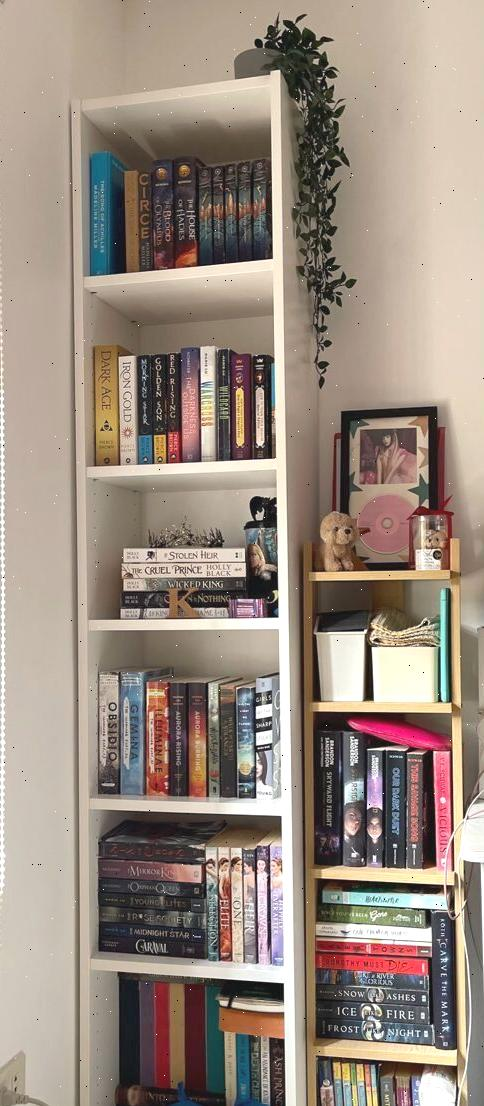book: (118, 668, 169, 793), (163, 678, 201, 797), (317, 885, 448, 910), (202, 834, 227, 964), (315, 725, 338, 863), (342, 735, 365, 867), (404, 750, 428, 872), (97, 668, 120, 791), (364, 745, 386, 867), (97, 345, 119, 466), (89, 150, 110, 275), (432, 750, 452, 878), (122, 567, 253, 586), (230, 351, 251, 465), (235, 680, 255, 799), (199, 346, 217, 465), (255, 840, 272, 966), (110, 156, 128, 274), (251, 157, 269, 264), (240, 845, 256, 965), (121, 548, 247, 563), (151, 348, 167, 463), (216, 348, 231, 466), (206, 681, 221, 797), (165, 352, 180, 467), (161, 157, 176, 271), (123, 170, 139, 274), (236, 161, 252, 265), (137, 168, 152, 272), (252, 356, 267, 460), (197, 165, 212, 268), (222, 162, 237, 264), (379, 1070, 397, 1106)
